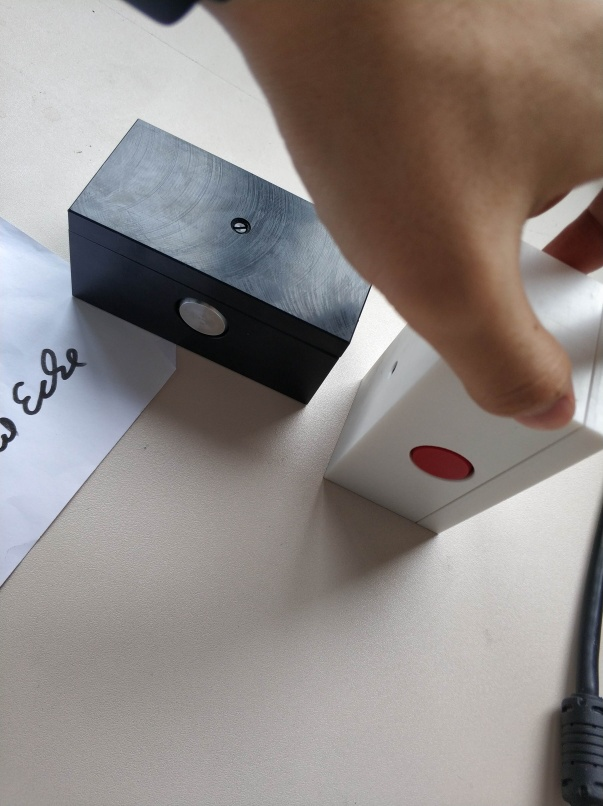black+black+silver: (65, 115, 372, 410)
white+white+red: (322, 238, 602, 540)
